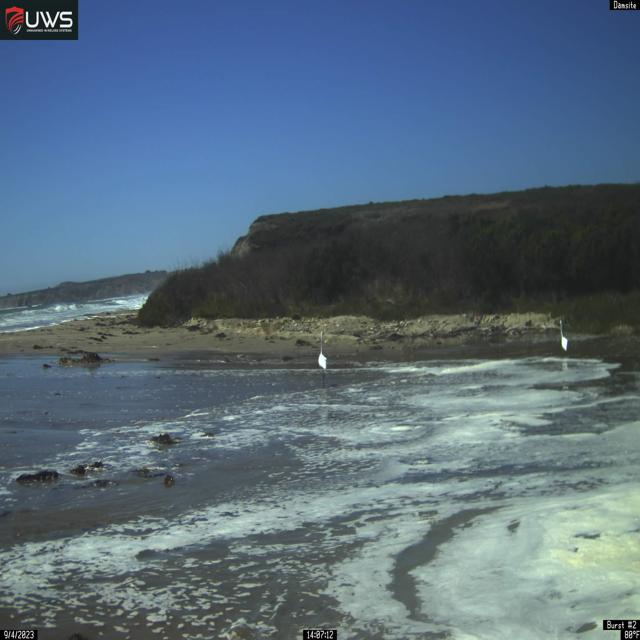bird: (318, 330, 328, 382)
